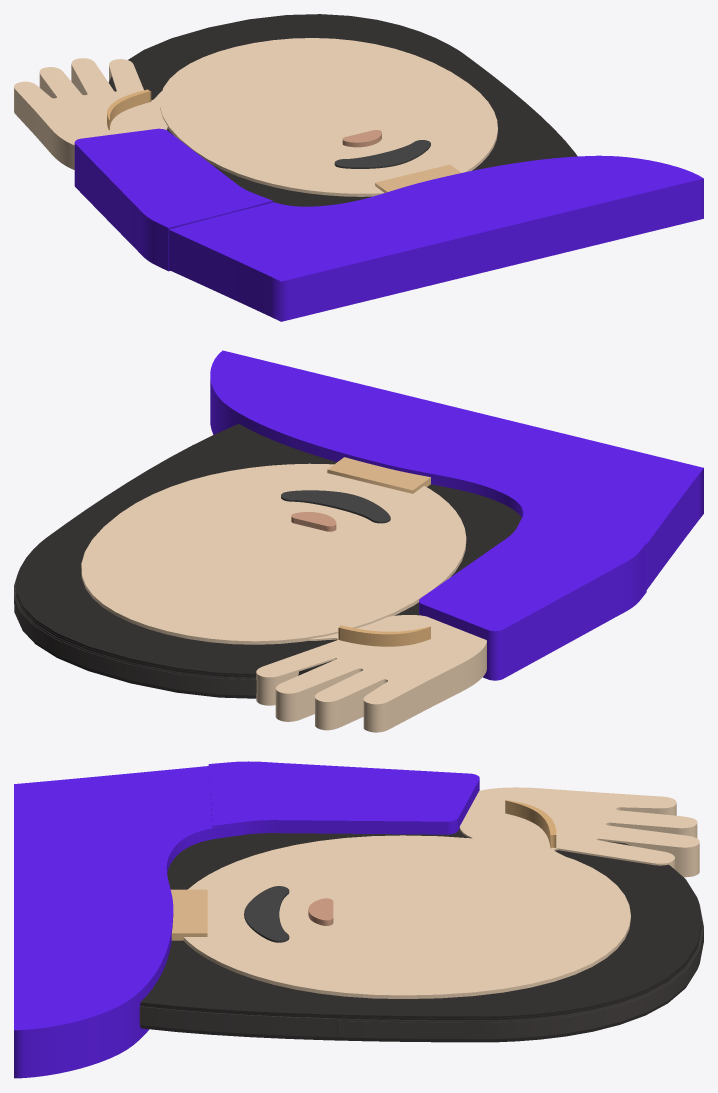
File: emoji_u1f64b_1f3fb_200d_2640.glb
3 views of the same model, one above another, from view 1: azimuth 30°, elevation 25°; view 2: azimuth 150°, elevation 25°; view 3: azimuth 270°, elevation 25° (orthographic). The views are drawn at different scales.
Parts seen in each view (by area): view 1: emoji_u1f64b_1f3fb_200d_2640; view 2: emoji_u1f64b_1f3fb_200d_2640; view 3: emoji_u1f64b_1f3fb_200d_2640.
Part boxes in pixels (bbox=[...]): emoji_u1f64b_1f3fb_200d_2640: bbox=[14, 14, 703, 321]; emoji_u1f64b_1f3fb_200d_2640: bbox=[14, 350, 703, 732]; emoji_u1f64b_1f3fb_200d_2640: bbox=[14, 761, 703, 1078].
Size of the model in its own units: 0.031 by 0.003 by 0.0338.
